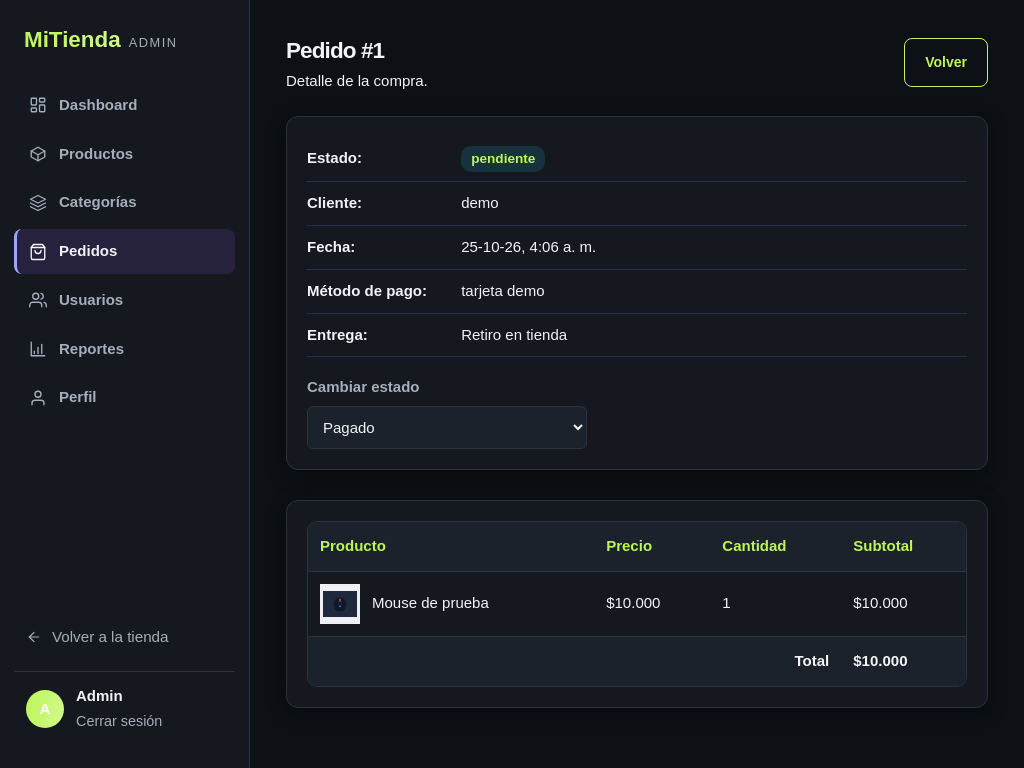
Scenario: Rutas y administración › UI37 cancelar pedido devuelve stock una sola vez
This screenshot has width=1024, height=768.
Select "Cancelado" in the dropdown labelled "Cambiar estado". click: (447, 428)
box: [307,406,587,449]
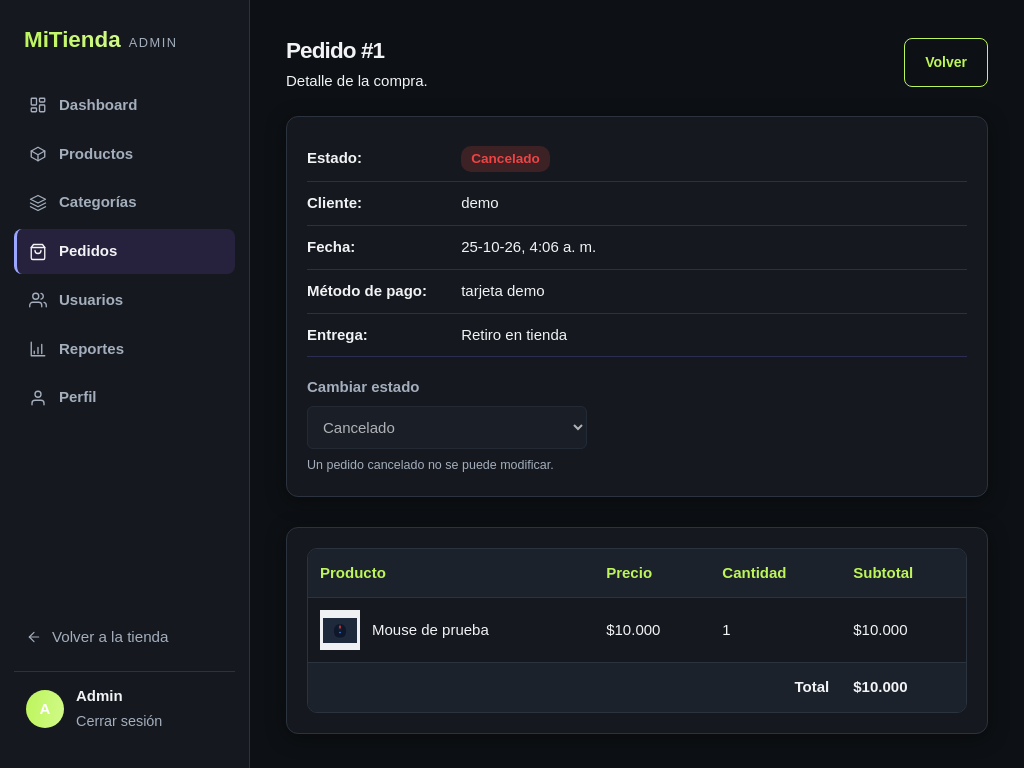
Expected: the dropdown labelled "Cambiar estado" is disabled, [307,406,587,449]
